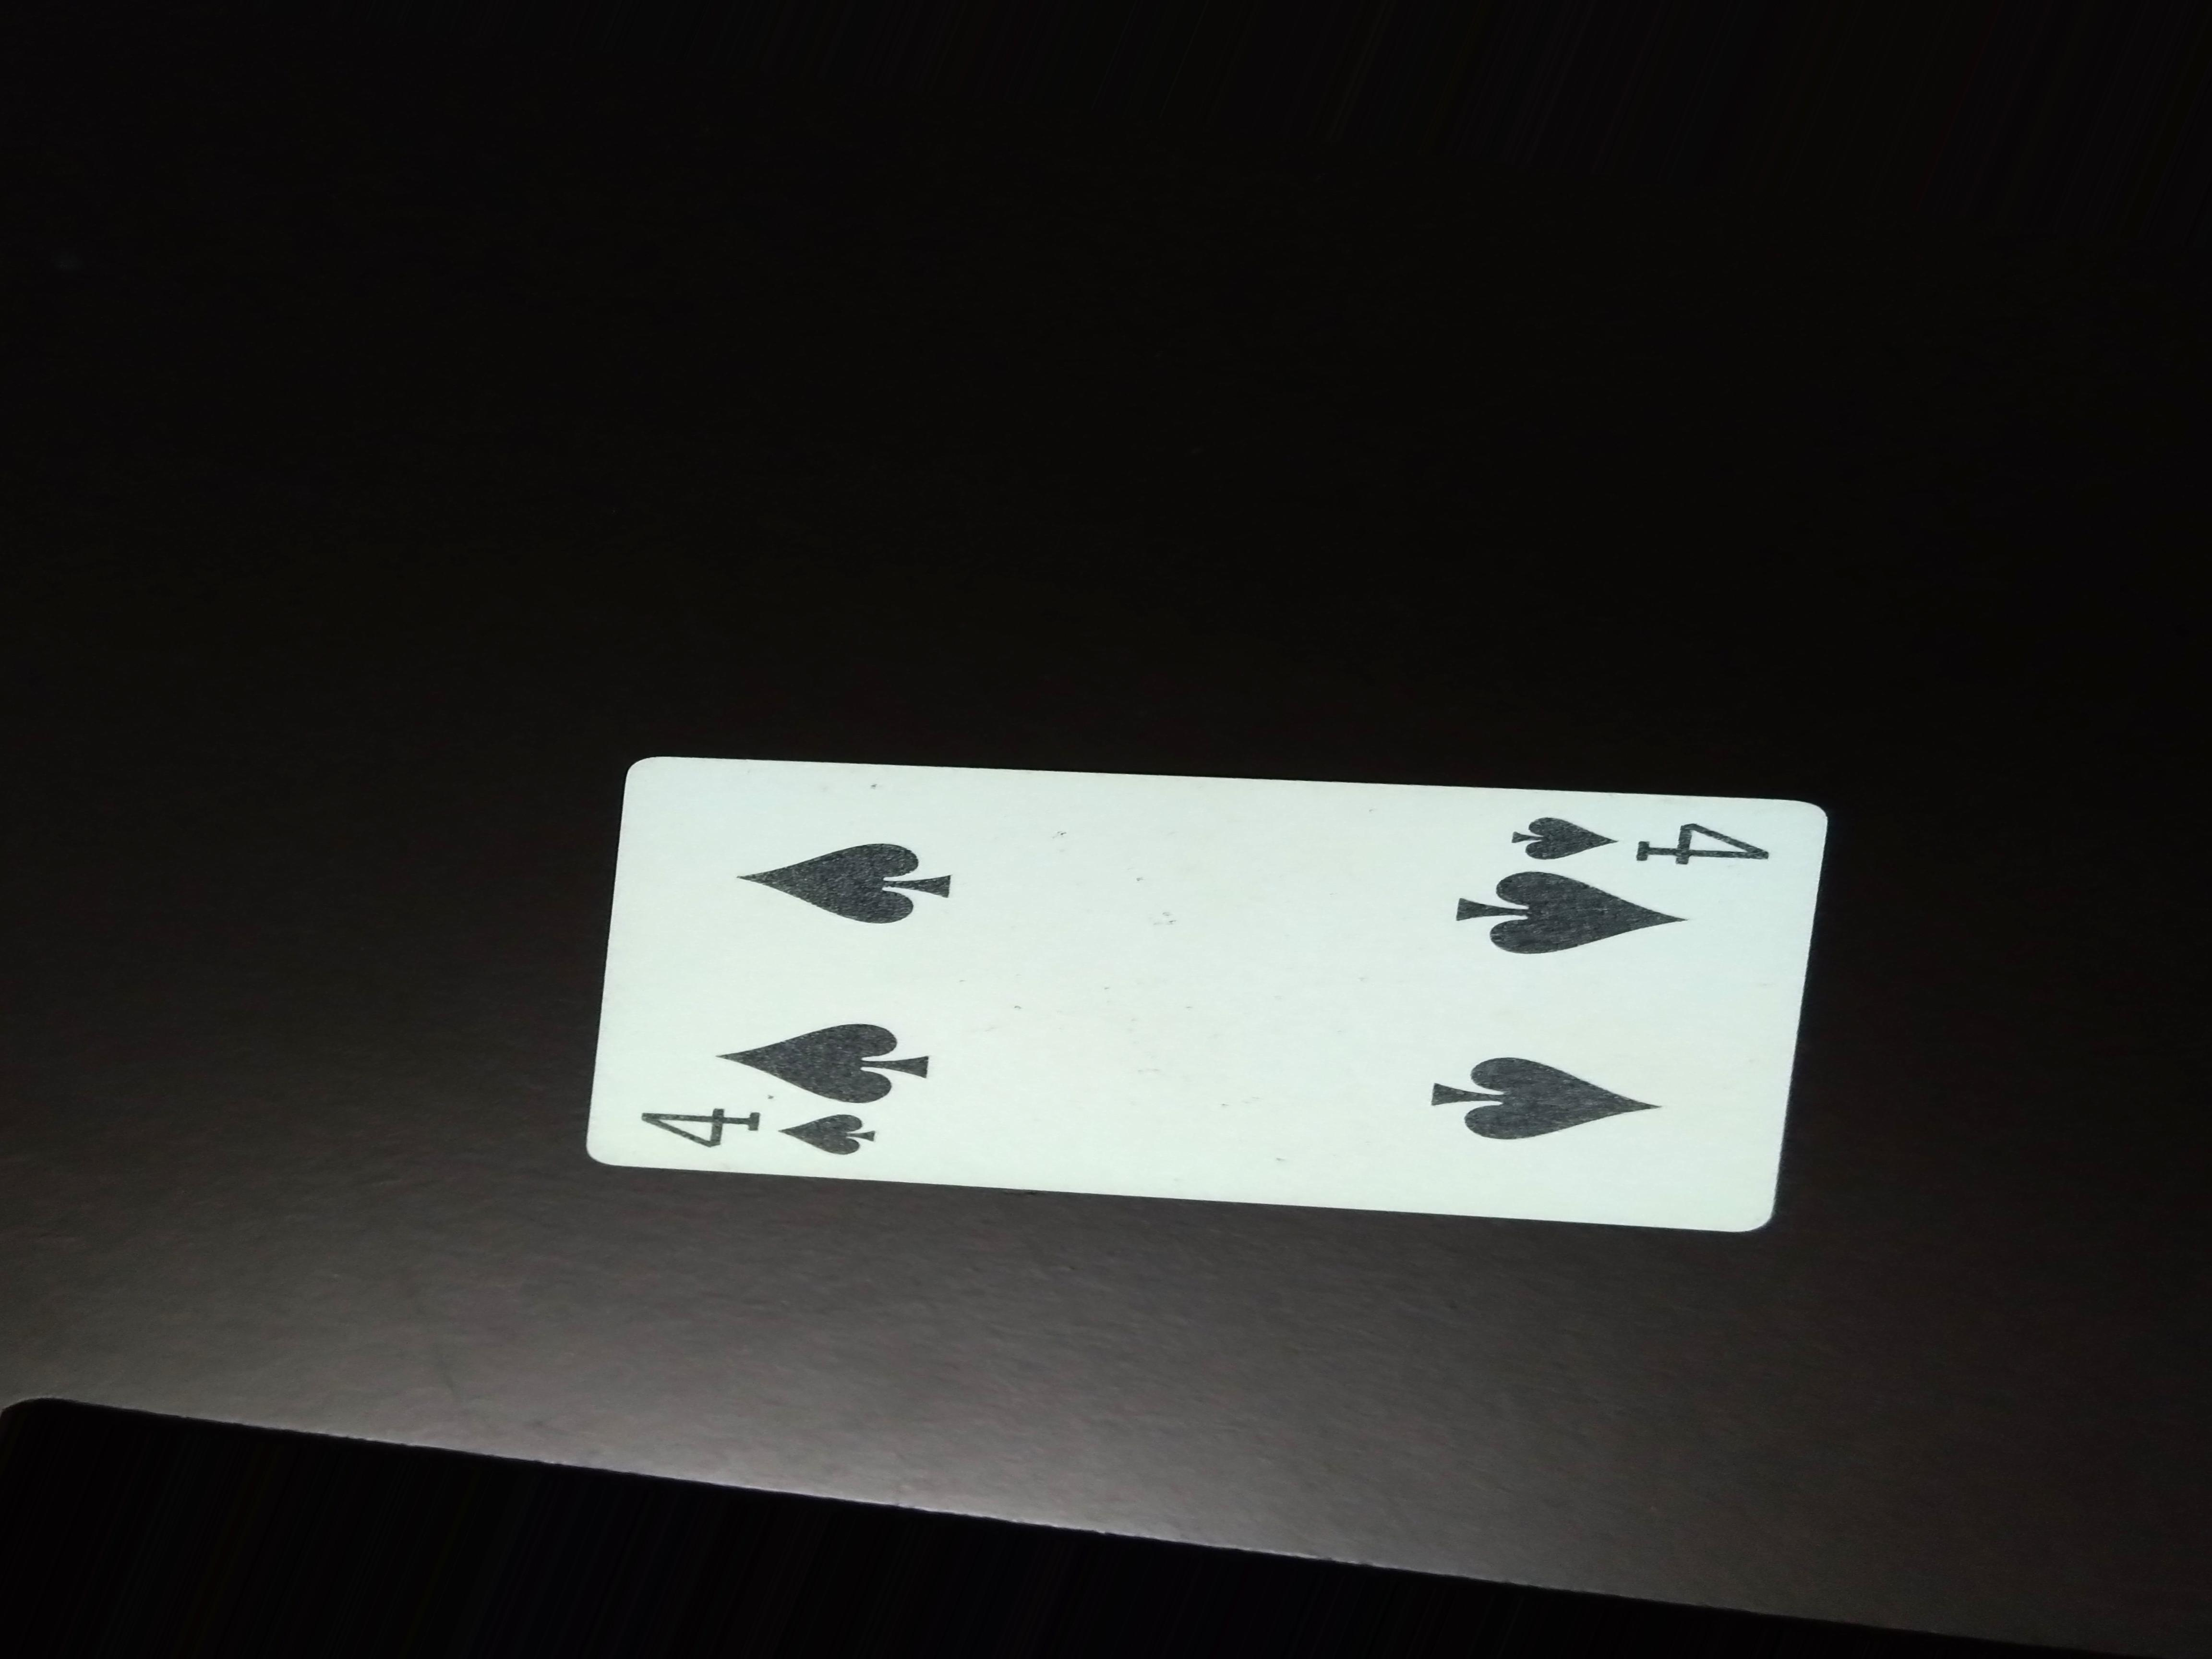4S: (637, 1110, 954, 1171)
